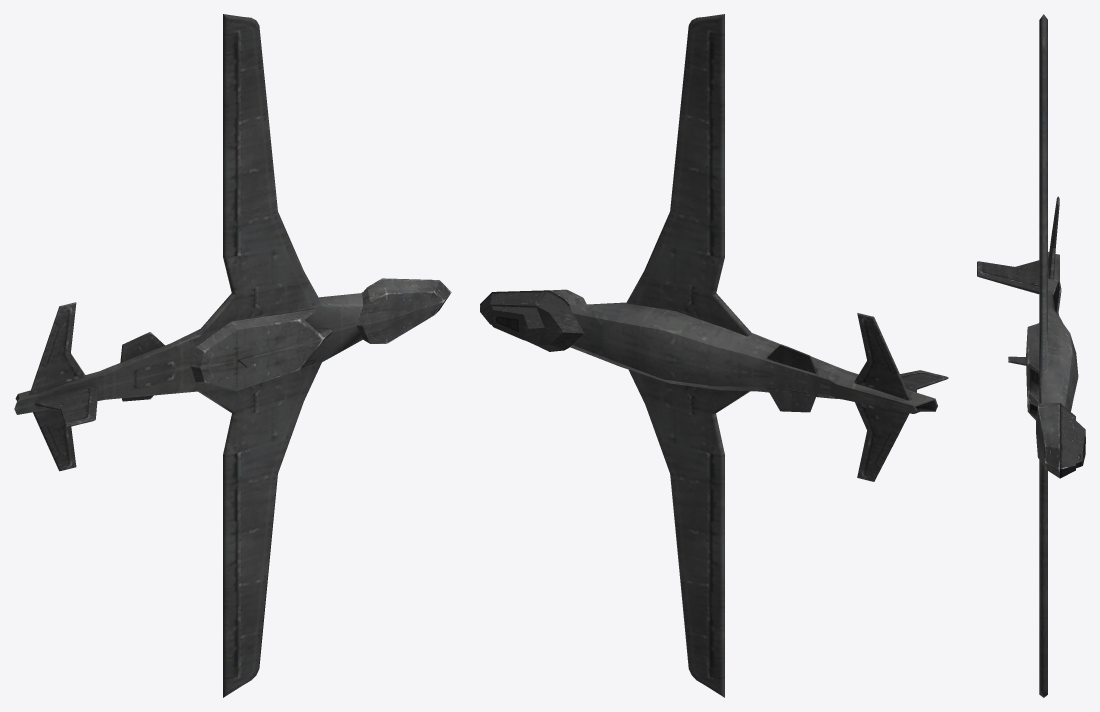
Rendered from veh_t6_drone_uav_LOD0.obj.
3 views of the same model, side by side, from view 1: azimuth 30°, elevation 25°; view 2: azimuth 150°, elevation 25°; view 3: azimuth 270°, elevation 25° (orthographic).
Parts seen in each view (by area): view 1: mtl_veh_t6_uav_drone; view 2: mtl_veh_t6_uav_drone; view 3: mtl_veh_t6_uav_drone.
Part boxes in pixels (left/top/right/bottom): mtl_veh_t6_uav_drone: left=14, top=14, right=451, bottom=697; mtl_veh_t6_uav_drone: left=480, top=14, right=948, bottom=697; mtl_veh_t6_uav_drone: left=977, top=14, right=1085, bottom=697.
Bounding box in the file's own units: 678 × 989 × 143.
